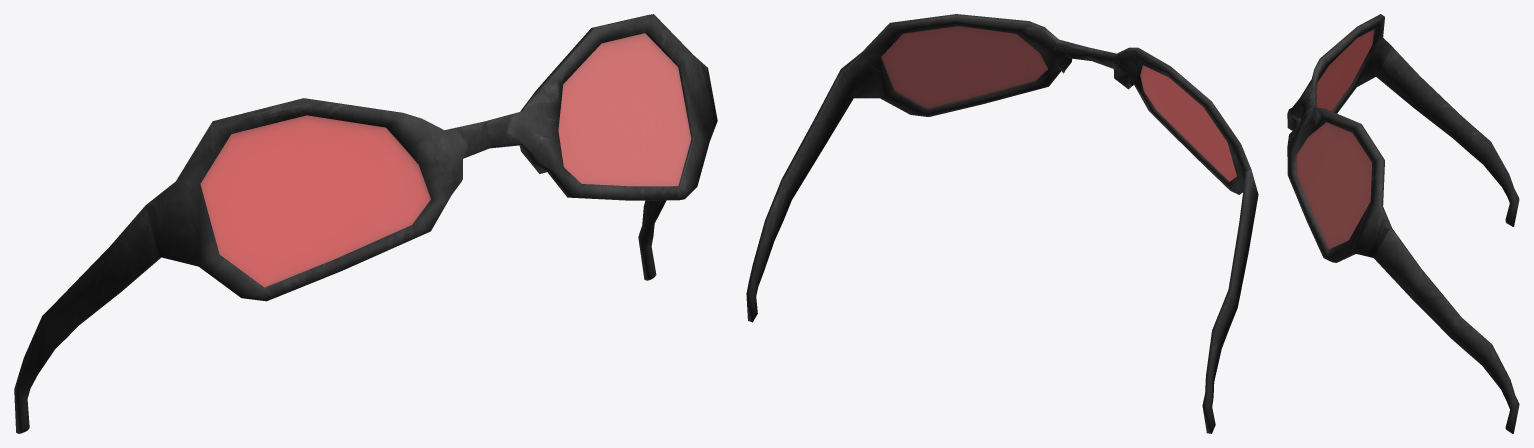
File: SM_StraftekShades_00.fbx
The picture shows the model from 3 angles, left to right: view 1: azimuth 30°, elevation 25°; view 2: azimuth 150°, elevation 25°; view 3: azimuth 270°, elevation 25°; orthographic projection. The views are drawn at different scales.
Parts seen in each view (by area): view 1: SM_StraftekShades_00; view 2: SM_StraftekShades_00; view 3: SM_StraftekShades_00.
Part boxes in pixels (x1,y1,x2,y2): SM_StraftekShades_00: (14, 14, 717, 433); SM_StraftekShades_00: (746, 14, 1258, 433); SM_StraftekShades_00: (1287, 14, 1519, 433).
Bounding box in the file's own units: 29.42 × 16.72 × 13.77.
